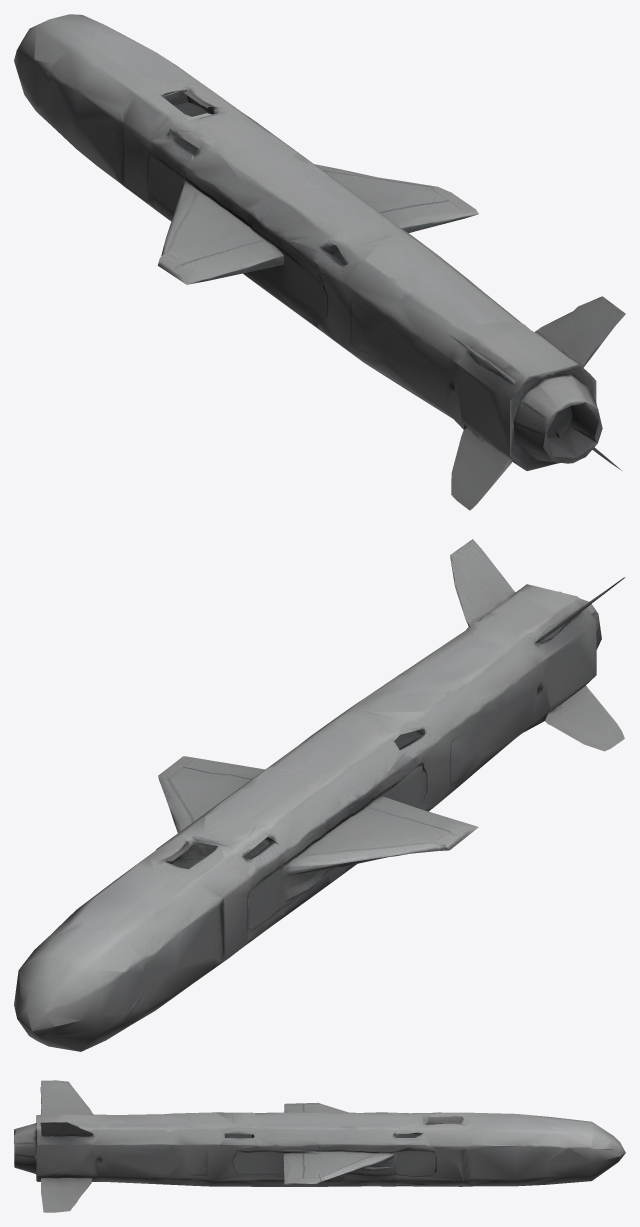
Rendered from missil_cruzeiro.glb.
3 renders of one model, top to bottom at view 1: azimuth 30°, elevation 25°; view 2: azimuth 150°, elevation 25°; view 3: azimuth 270°, elevation 25°, orthographic. The views are drawn at different scales.
Parts seen in each view (by area): view 1: tripo_node_6db4718d-1886-4647-9054-a4659eca19ec; view 2: tripo_node_6db4718d-1886-4647-9054-a4659eca19ec; view 3: tripo_node_6db4718d-1886-4647-9054-a4659eca19ec.
Boxes of the visible parts, x1,y1,x2,y2 form: tripo_node_6db4718d-1886-4647-9054-a4659eca19ec: (14,14,625,510); tripo_node_6db4718d-1886-4647-9054-a4659eca19ec: (14,539,625,1051); tripo_node_6db4718d-1886-4647-9054-a4659eca19ec: (14,1080,625,1212).
Size of the model in its own units: 0.311 by 0.164 by 1.
Materials: 1 (1 with a texture image).
